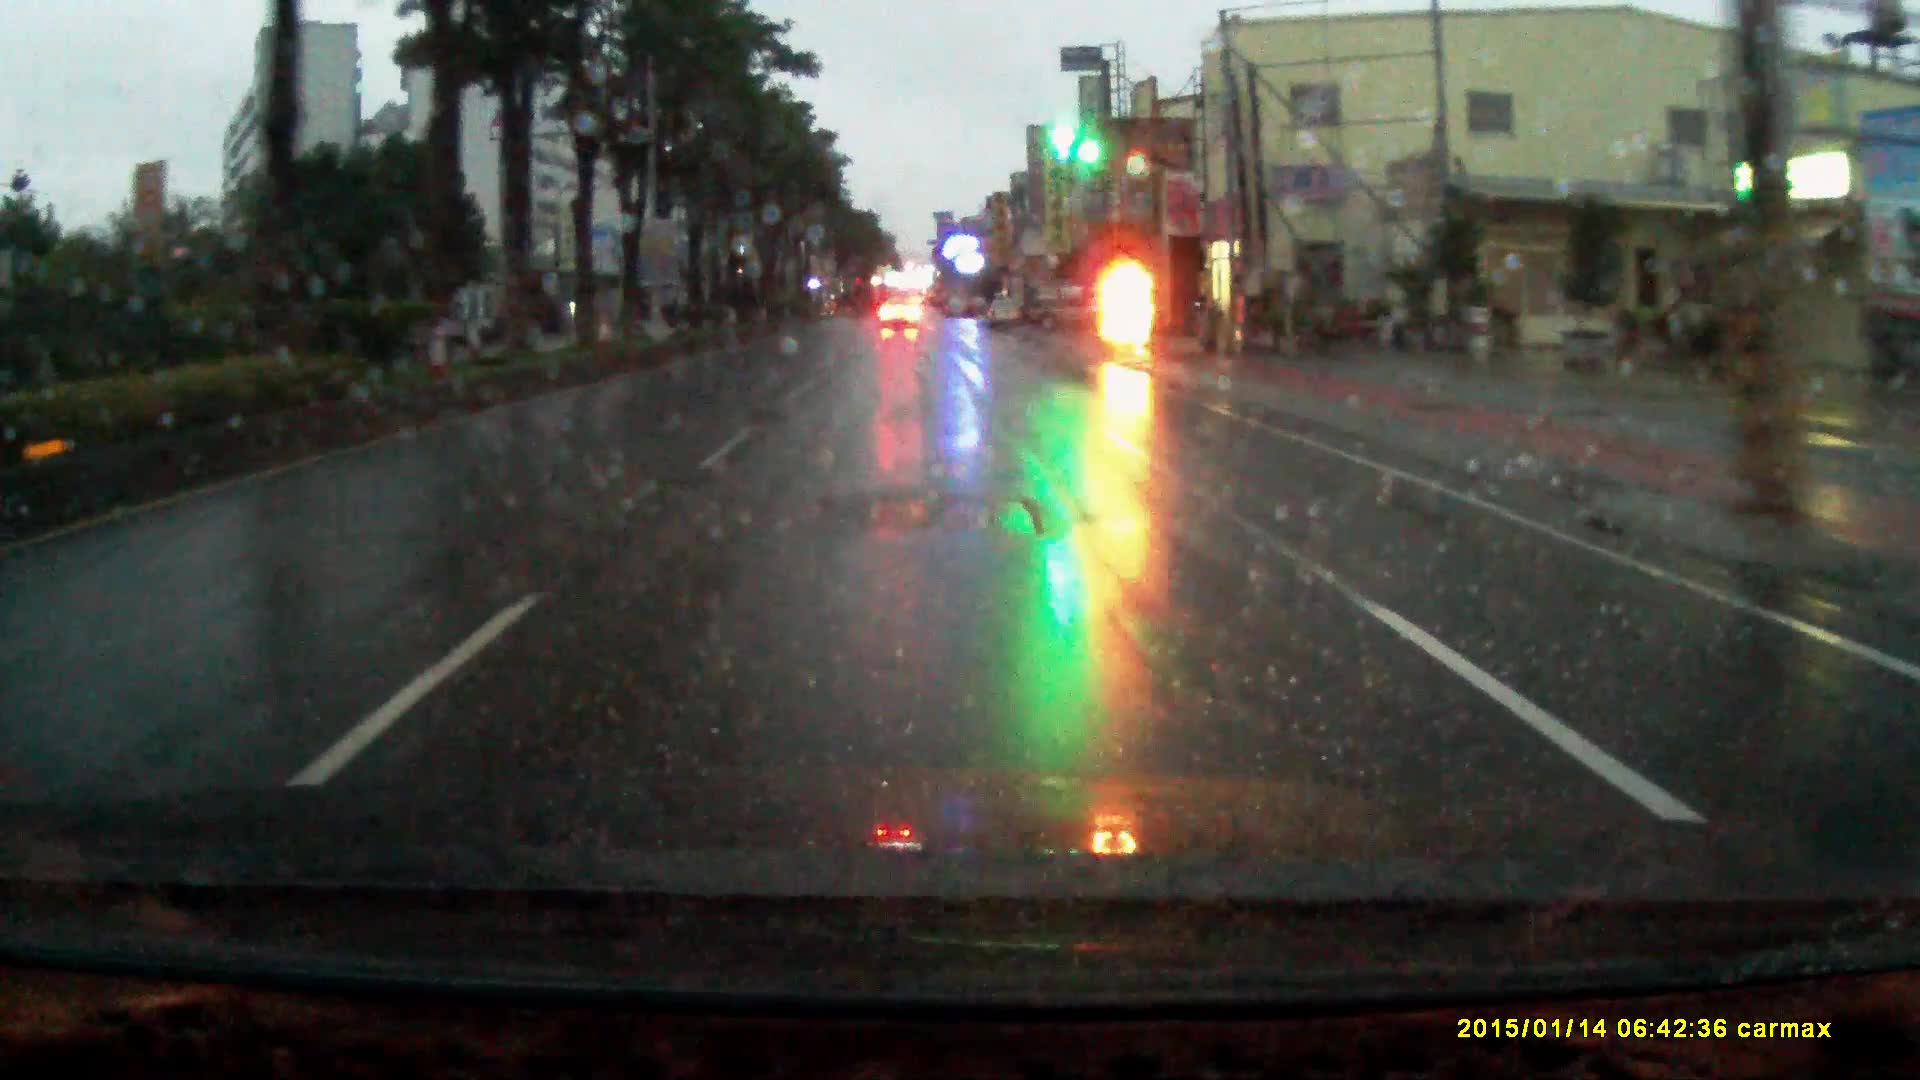vehicle: (1030, 273, 1116, 324), (880, 291, 924, 327)
